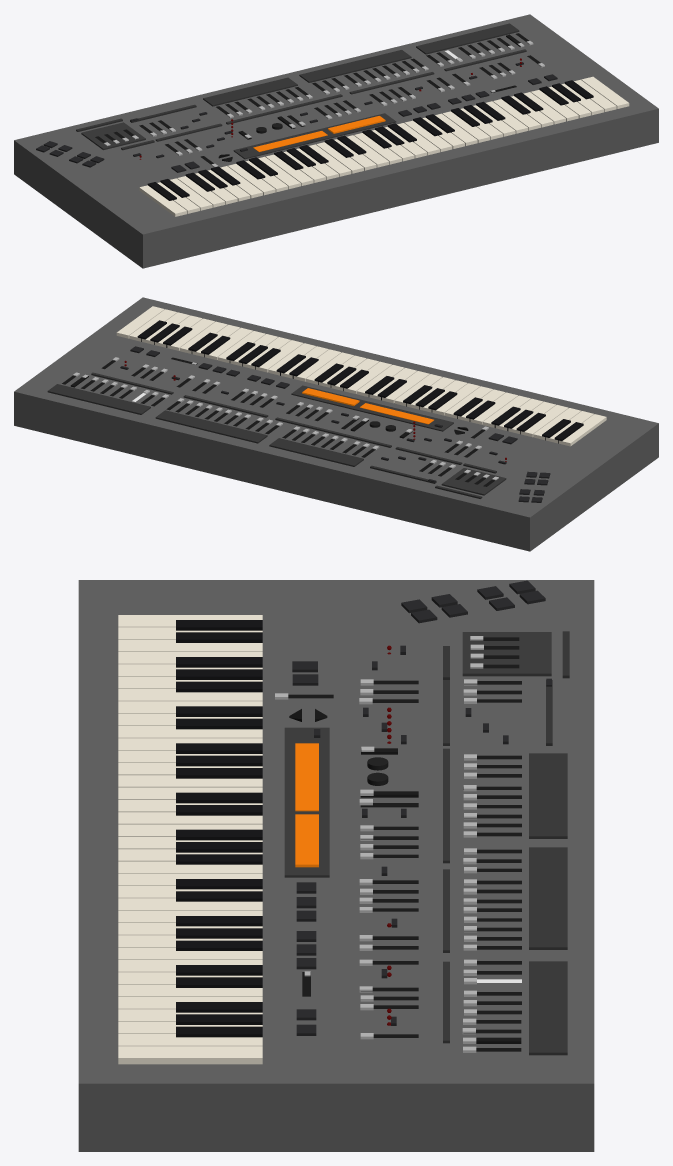
The picture shows the model from 3 angles, top to bottom: view 1: azimuth 30°, elevation 25°; view 2: azimuth 150°, elevation 25°; view 3: azimuth 270°, elevation 25°; orthographic projection. The views are drawn at different scales.
Parts seen in each view (by area): view 1: synth_body.1, panel1.1, panel3, panel3.1, panel2, panel1, Key_C1, Key_C6, panel1.2, Key_F1, Key_F4, Key_C2 (+18 smaller); view 2: synth_body.1, panel1.1, panel3, panel3.1, panel2, panel1, Key_C1, Key_C6, panel1.2, Key_F1, Key_F4, Key_F5 (+18 smaller); view 3: synth_body.1, panel1.1, panel3, panel3.1, panel1, panel2, Key_C6, panel1.2, Key_B3, Key_B5, Key_E3, Key_B2 (+58 smaller).
Boxes of the visible parts, left/top/right/bottom form: synth_body.1: left=14, top=14, right=658, bottom=268; panel1.1: left=233, top=113, right=396, bottom=159; panel3: left=299, top=50, right=411, bottom=82; panel3.1: left=416, top=23, right=519, bottom=54; panel2: left=203, top=77, right=297, bottom=106; panel1: left=81, top=122, right=145, bottom=150; Key_C1: left=139, top=185, right=187, bottom=216; Key_C6: left=581, top=76, right=629, bottom=108; panel1.2: left=253, top=131, right=327, bottom=151; Key_F1: left=177, top=176, right=225, bottom=207; Key_F4: left=442, top=111, right=490, bottom=142; Key_C2: left=227, top=164, right=275, bottom=195; synth_body.1: left=14, top=297, right=658, bottom=551; panel1.1: left=291, top=385, right=453, bottom=431; panel3: left=155, top=410, right=267, bottom=443; panel3.1: left=47, top=384, right=150, bottom=414; panel2: left=269, top=438, right=363, bottom=466; panel1: left=441, top=468, right=506, bottom=495; Key_C1: left=558, top=414, right=606, bottom=446; Key_C6: left=116, top=306, right=164, bottom=338; panel1.2: left=360, top=403, right=433, bottom=424; Key_F1: left=520, top=405, right=568, bottom=437; Key_F4: left=255, top=340, right=303, bottom=372; Key_F5: left=167, top=318, right=215, bottom=350; synth_body.1: left=78, top=580, right=594, bottom=1151; panel1.1: left=284, top=727, right=329, bottom=877; panel3: left=529, top=847, right=567, bottom=949; panel3.1: left=529, top=961, right=567, bottom=1055; panel1: left=462, top=632, right=551, bottom=676; panel2: left=529, top=753, right=567, bottom=838; Key_C6: left=118, top=1046, right=262, bottom=1064; panel1.2: left=295, top=743, right=318, bottom=811; Key_B3: left=118, top=861, right=262, bottom=873; Key_B5: left=118, top=1034, right=262, bottom=1046; Key_E3: left=118, top=812, right=262, bottom=824; Key_B2: left=118, top=775, right=262, bottom=787.
Size of what is drawn, in the model's own units: 7.96 by 1.03 by 3.44.
